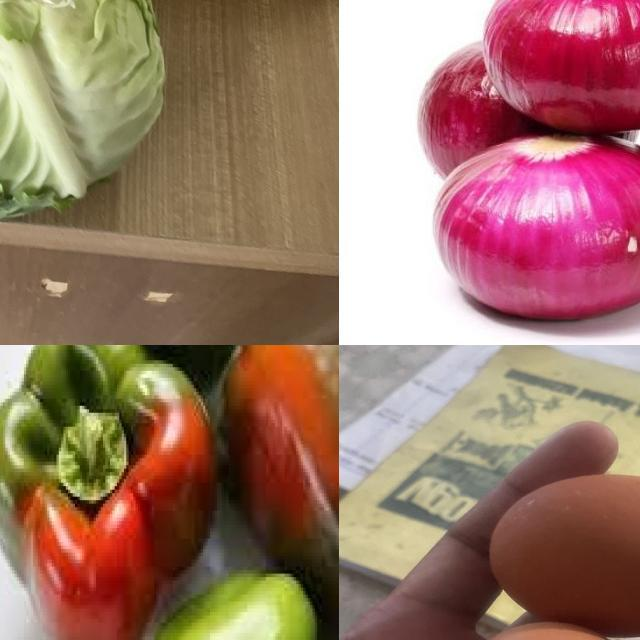bell_pepper: (1, 346, 212, 640), (199, 346, 340, 640), (129, 560, 340, 640)
cabbage: (1, 1, 171, 230)
egg: (490, 470, 640, 638)
onion: (434, 134, 640, 327), (423, 30, 640, 177), (486, 1, 640, 138)
